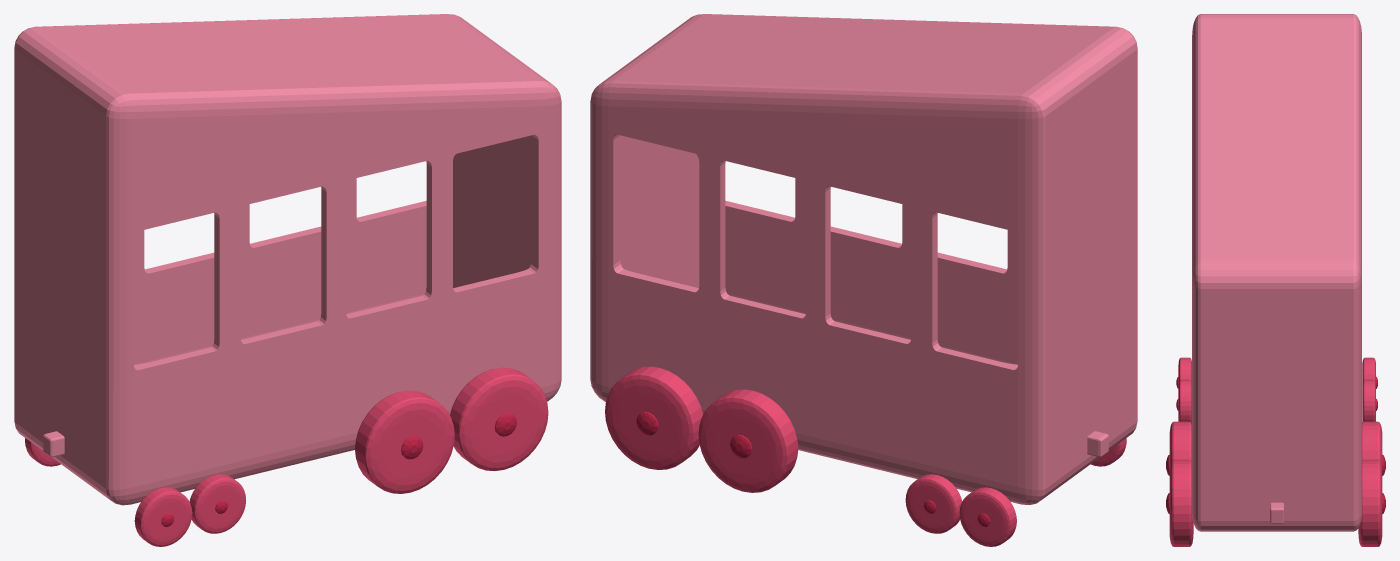
Rendered from wagons_keytar.glb.
3 renders of one model, left to right at view 1: azimuth 30°, elevation 25°; view 2: azimuth 150°, elevation 25°; view 3: azimuth 270°, elevation 25°, orthographic. The views are drawn at different scales.
Parts seen in each view (by area): view 1: wagon_keytar, roue.016, roue.017, roue.019, roue.018; view 2: wagon_keytar, roue.015, roue.014, roue.012, roue.013; view 3: wagon_keytar, roue.017, roue.014, roue.016, roue.015, roue.013, roue.018, roue.012, roue.019.
Boxes of the visible parts, x1,y1,x2,y2 form: wagon_keytar: (14,14,561,505); roue.016: (355,390,454,493); roue.017: (450,367,548,471); roue.019: (134,487,192,546); roue.018: (189,474,245,533); wagon_keytar: (590,14,1137,504); roue.015: (698,389,798,492); roue.014: (605,366,702,469); roue.012: (959,487,1016,546); roue.013: (905,474,962,533); wagon_keytar: (1192,14,1361,531); roue.017: (1166,460,1193,546); roue.014: (1358,460,1385,546); roue.016: (1166,421,1191,475); roue.015: (1362,421,1385,475); roue.013: (1362,379,1377,421); roue.018: (1176,379,1191,423); roue.012: (1362,357,1377,388); roue.019: (1176,357,1191,388).
Bounding box in the file's own units: 50.71 × 45.26 × 23.8.
